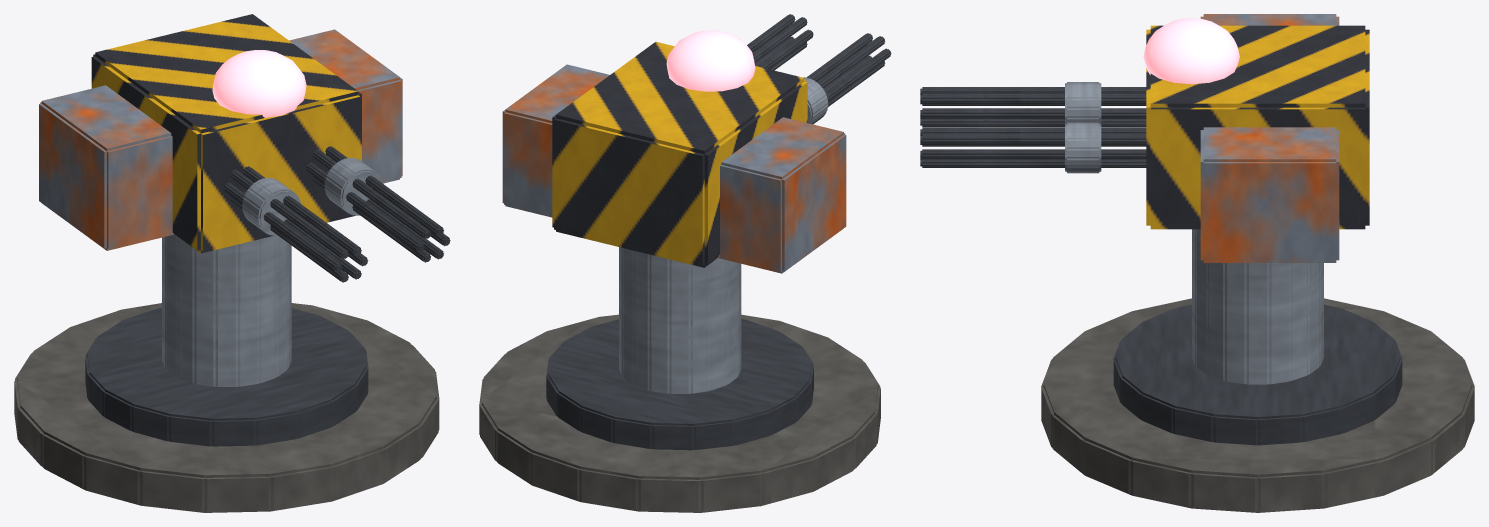
Rendered from fac_turret.glb.
3 views of the same model, side by side, from view 1: azimuth 30°, elevation 25°; view 2: azimuth 150°, elevation 25°; view 3: azimuth 270°, elevation 25° (orthographic). The views are drawn at different scales.
Visible parts, largest first — view 1: fac_turret; view 2: fac_turret; view 3: fac_turret.
Part boxes in pixels (x1,y1,x2,y2): fac_turret: (14, 14, 450, 512); fac_turret: (479, 14, 891, 512); fac_turret: (920, 14, 1474, 512).
Size of the model in its own units: 1.44 by 1.46 by 1.84.
6 materials, 5 textured.
